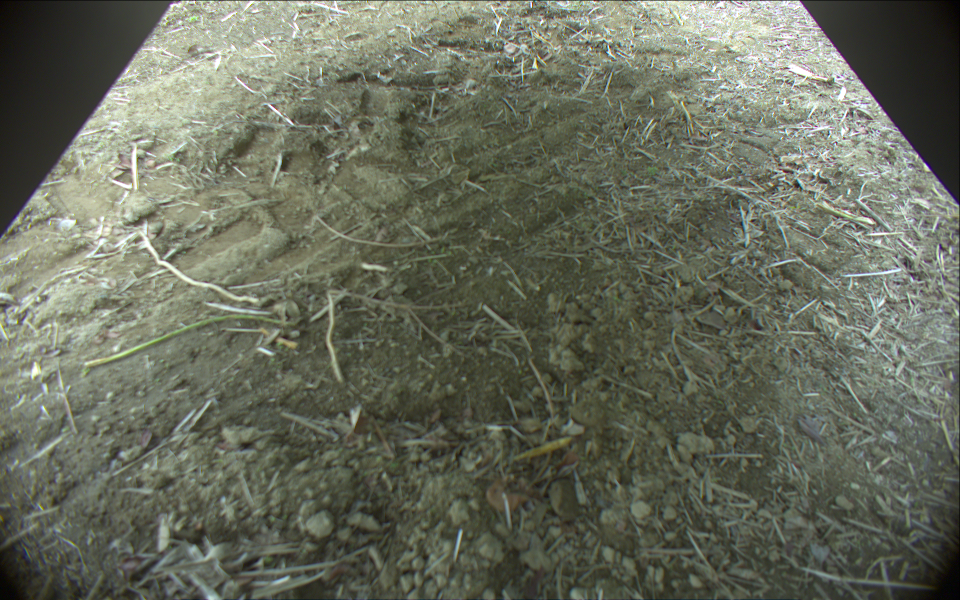aspa: (82, 312, 301, 375)
